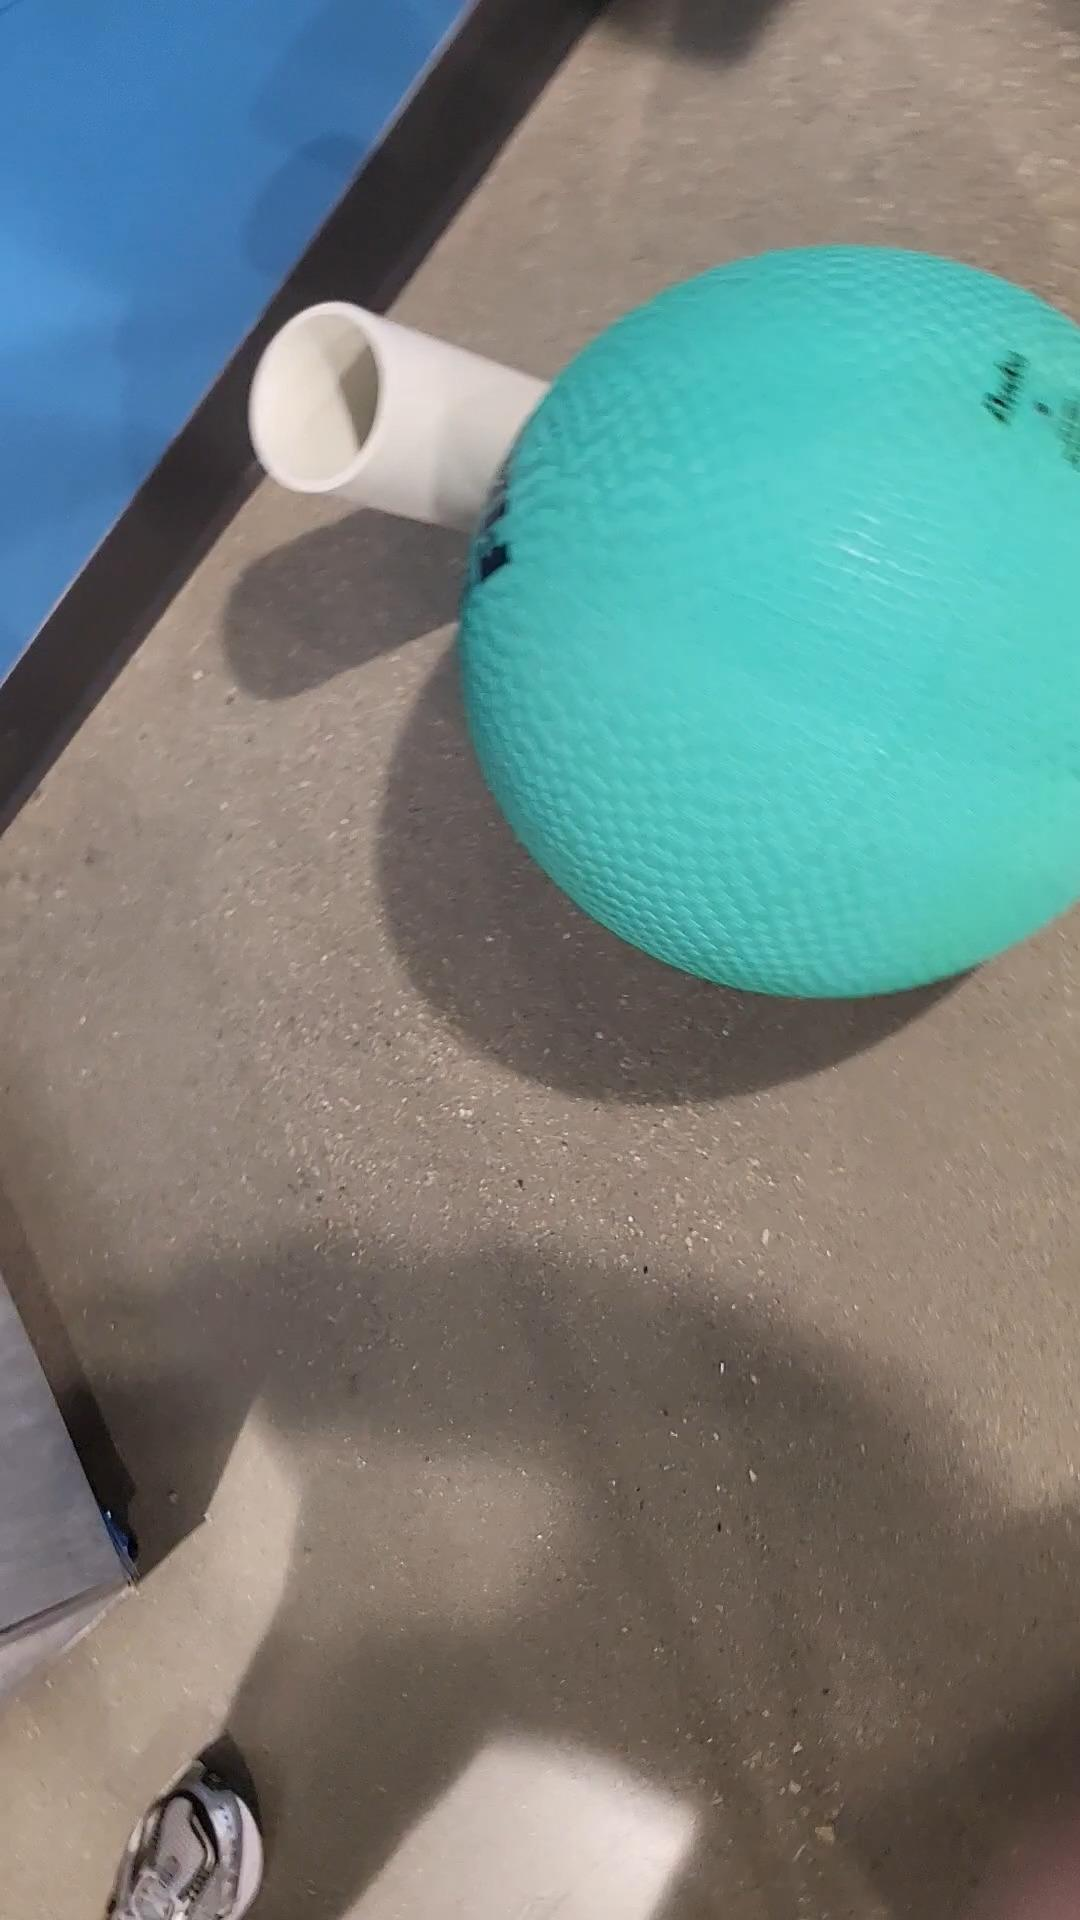algae: (456, 244, 1080, 1006)
coral: (251, 297, 576, 558)
